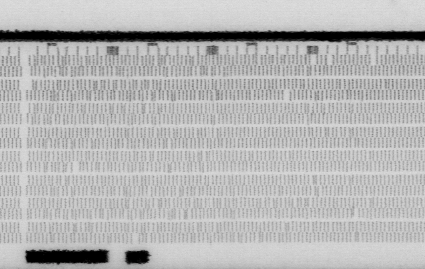Broken hole: (68, 159, 81, 172), (324, 53, 336, 66), (367, 54, 379, 67), (282, 88, 293, 101), (308, 52, 319, 65), (130, 232, 141, 245)
Oblique printing: (43, 161, 207, 247), (26, 55, 221, 103), (39, 102, 174, 151), (260, 197, 315, 209), (307, 173, 323, 197), (300, 54, 313, 77), (302, 102, 314, 125), (278, 219, 291, 233), (349, 205, 361, 220), (208, 113, 221, 126), (309, 87, 321, 101), (363, 196, 374, 210), (349, 232, 360, 244), (348, 102, 359, 114)
